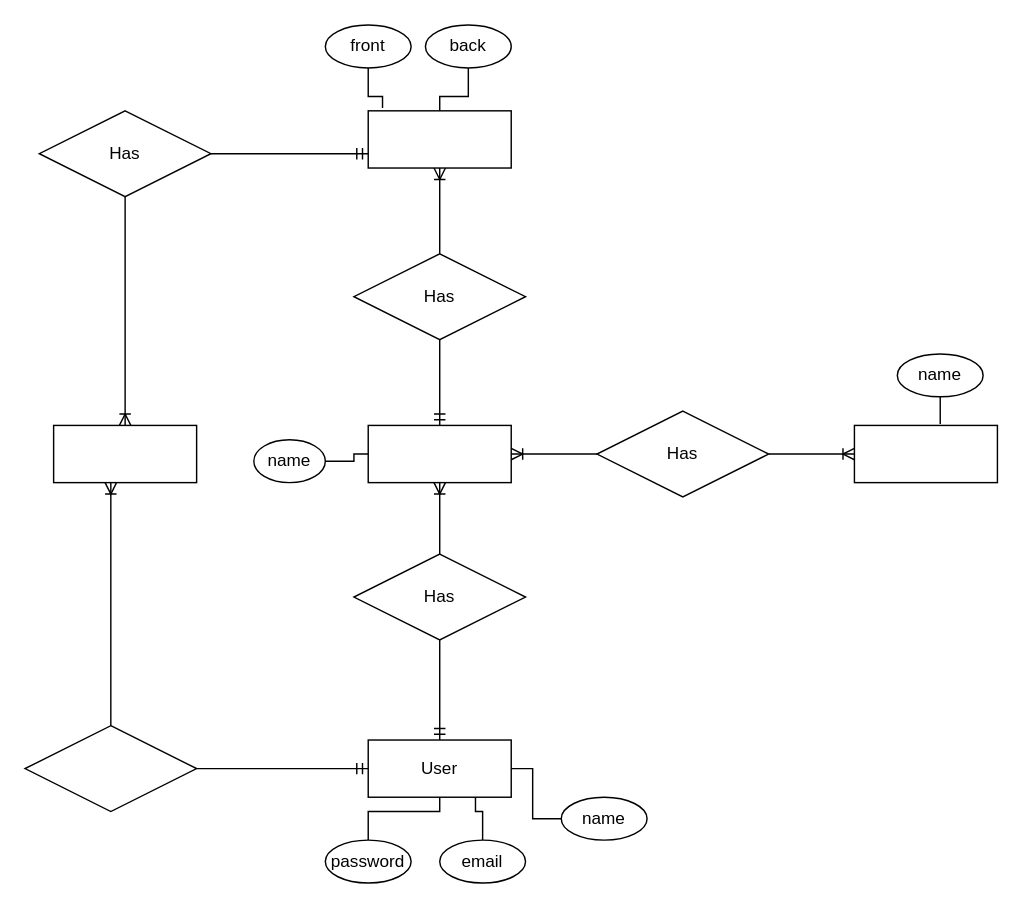
Some shapes in this 1022 by 908 pixel diagram are drawn without their labels. The centre of each missing label's shape, as x and y in pixels:
"Card" belongs at point 439,138.
"Deck" belongs at point 439,453.
"Language" belongs at point 925,453.
"Make" belongs at point 110,768.
"Review" belongs at point 124,453.
